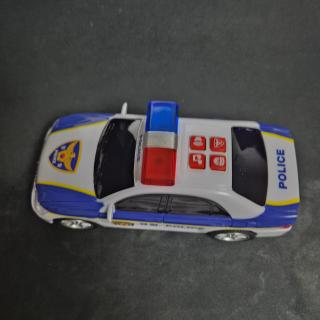Police_car: (31, 101, 299, 242)
